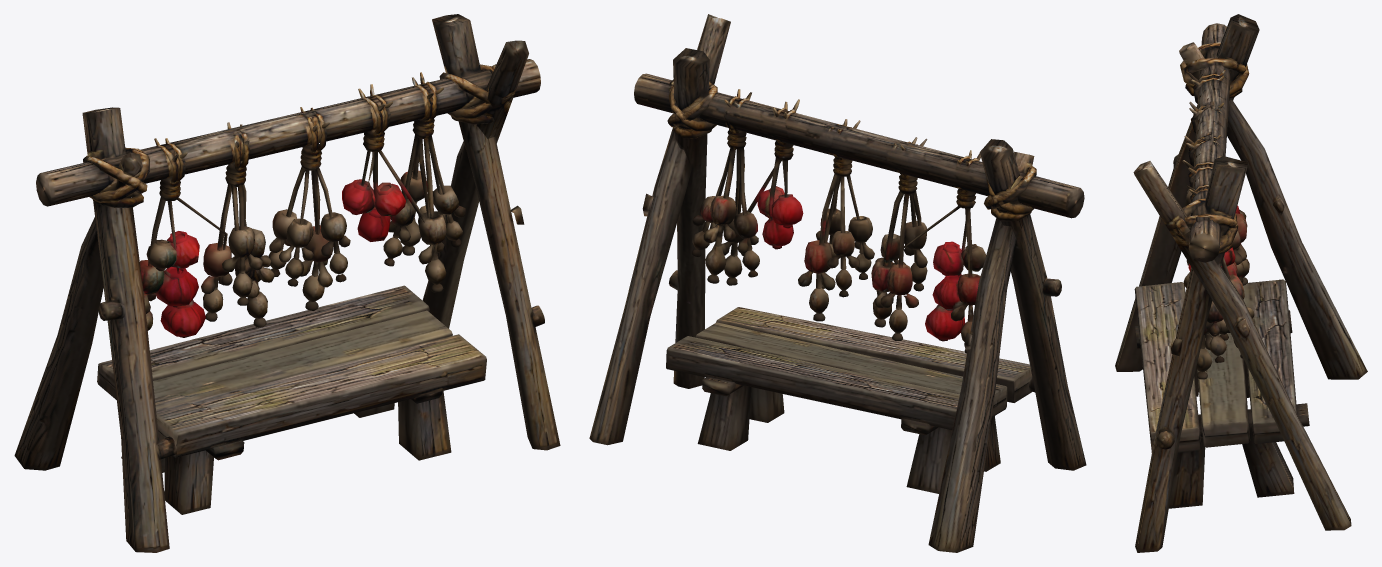
File: act1_kit_v1_poppy_rack.glb
3 renders of one model, left to right at view 1: azimuth 30°, elevation 25°; view 2: azimuth 150°, elevation 25°; view 3: azimuth 270°, elevation 25°, orthographic. The views are drawn at different scales.
Visible parts, largest first — view 1: act1_kit_v1_poppy_rack; view 2: act1_kit_v1_poppy_rack; view 3: act1_kit_v1_poppy_rack.
Boxes of the visible parts, box(x1,y1,x2,y2) form: act1_kit_v1_poppy_rack: box(14, 14, 560, 552); act1_kit_v1_poppy_rack: box(589, 14, 1086, 552); act1_kit_v1_poppy_rack: box(1115, 14, 1367, 552).
Bounding box in the file's own units: 1 × 0.8137 × 0.5006.
1 material, 1 textured.
